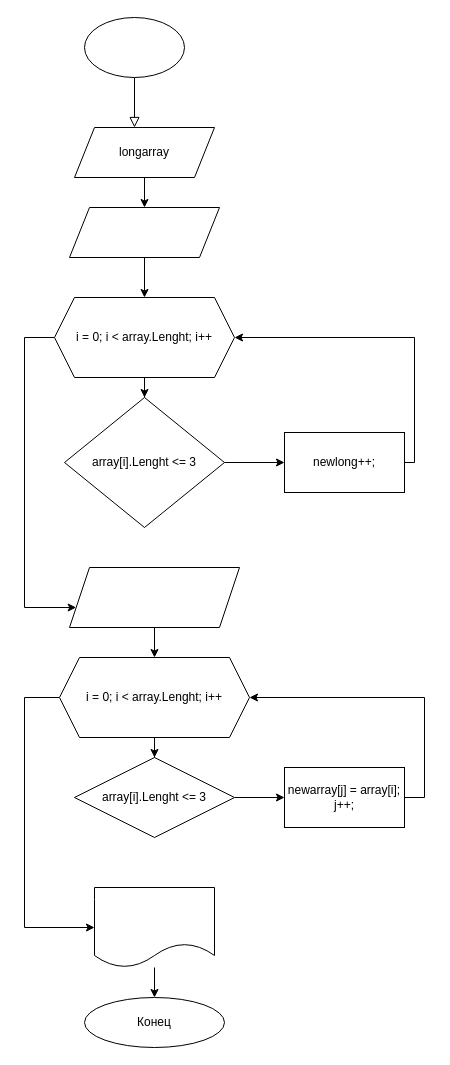
Some shapes in this 450 by 1065 pixel diagram are drawn without their labels. Here are the shapes that lost their labels. From the top down, the centre of each, then its label:
At (x=134, y=47): "Начало".
At (x=144, y=232): "array[longarray]; newlong = 0;".
At (x=154, y=597): "newarray[j]; j=0;".
At (x=154, y=927): "newarray".
